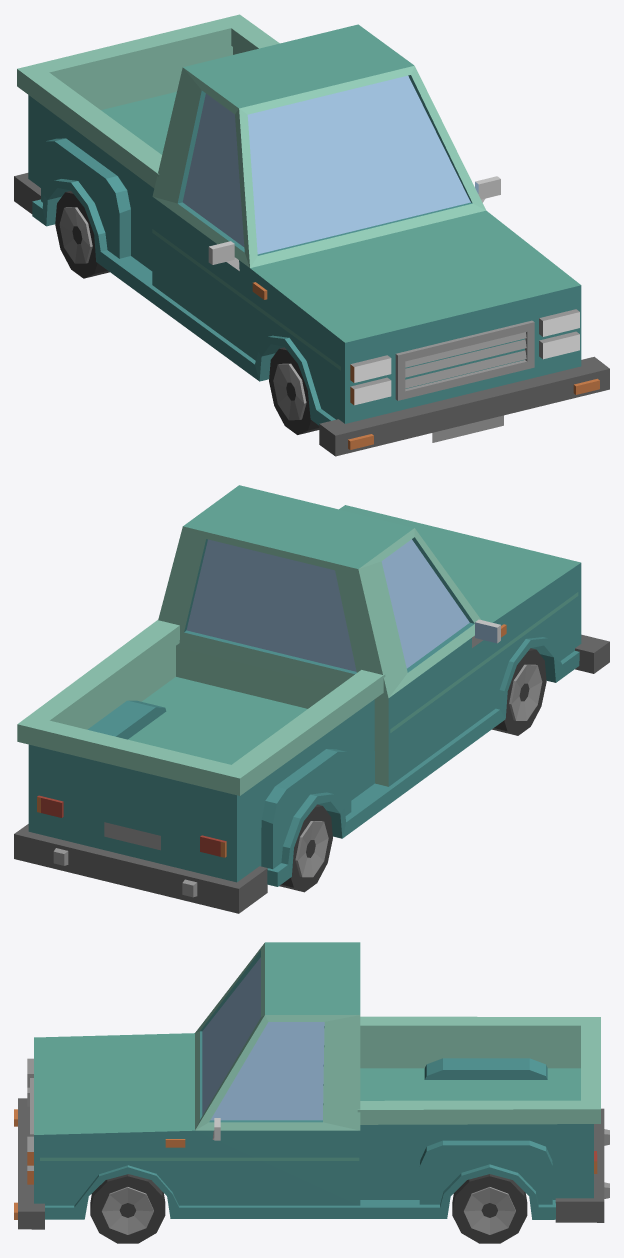
Rendered from transport_old_012.glb.
3 views of the same model, one above another, from view 1: azimuth 30°, elevation 25°; view 2: azimuth 150°, elevation 25°; view 3: azimuth 270°, elevation 25° (orthographic). The views are drawn at different scales.
Parts seen in each view (by area): view 1: transport_old_012; view 2: transport_old_012; view 3: transport_old_012.
Boxes of the visible parts, x1,y1,x2,y2 form: transport_old_012: (14, 14, 609, 456); transport_old_012: (14, 485, 609, 913); transport_old_012: (14, 942, 609, 1243).
Bounding box in the file's own units: 1.66 × 1.41 × 3.51.
Materials: 1 (1 with a texture image).
